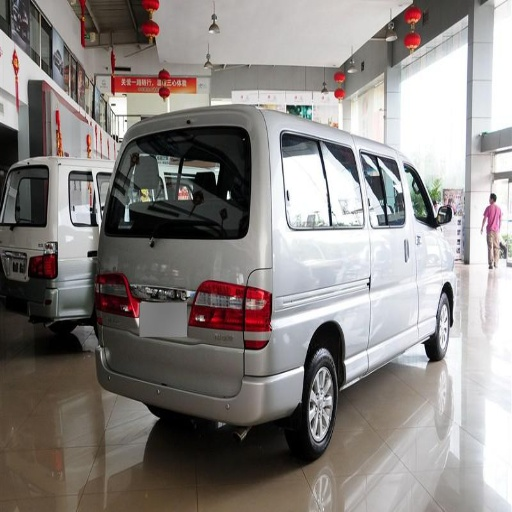back_bumper: (95, 327, 302, 425)
back_left_light: (91, 269, 135, 322)
back_right_door: (281, 132, 324, 198), (364, 163, 406, 227)
trunk: (111, 239, 254, 382), (256, 238, 365, 371)
